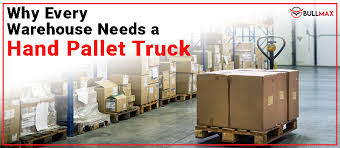Pallet Jack: (194, 35, 300, 144)
